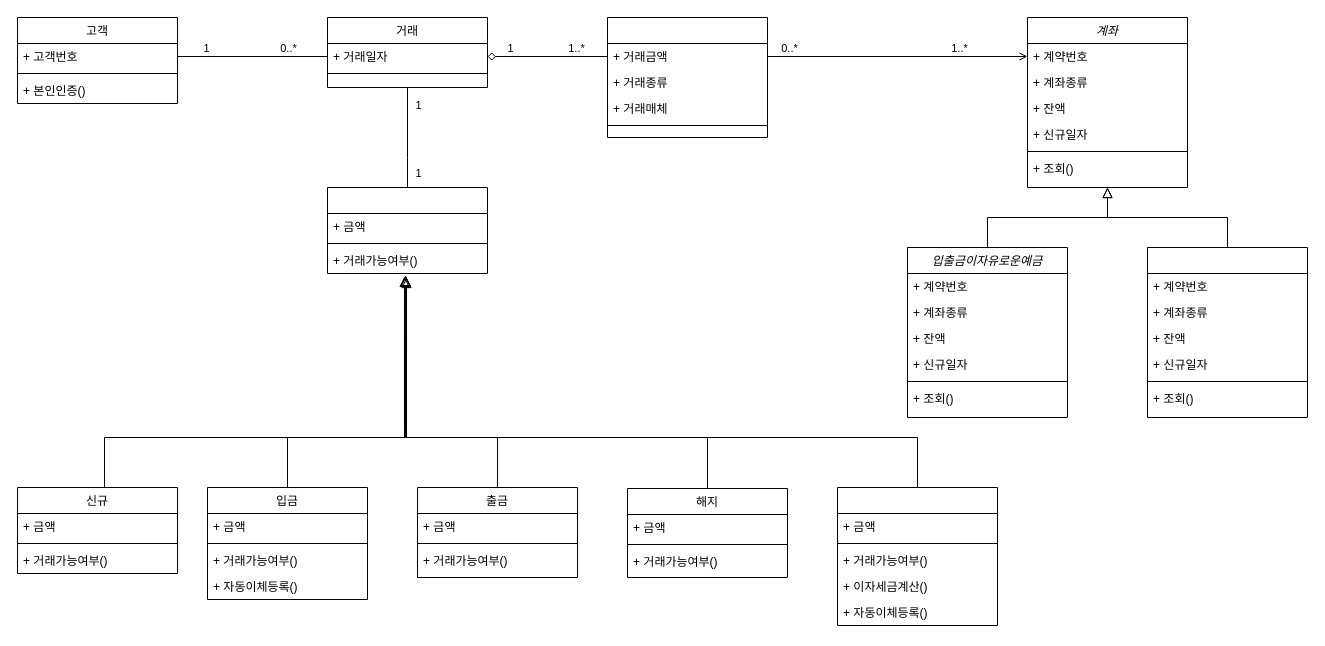
The diagram is 1325 pixels wide and 646 high, and some of its shapes have lost their labels. The box of each missing label's shape, as (x1, y1, x2, y2) in pixels:
거래상세: (606, 16, 768, 138)
거래종류: (326, 186, 488, 274)
결산: (836, 486, 998, 626)
저금통계좌: (1146, 246, 1308, 418)
